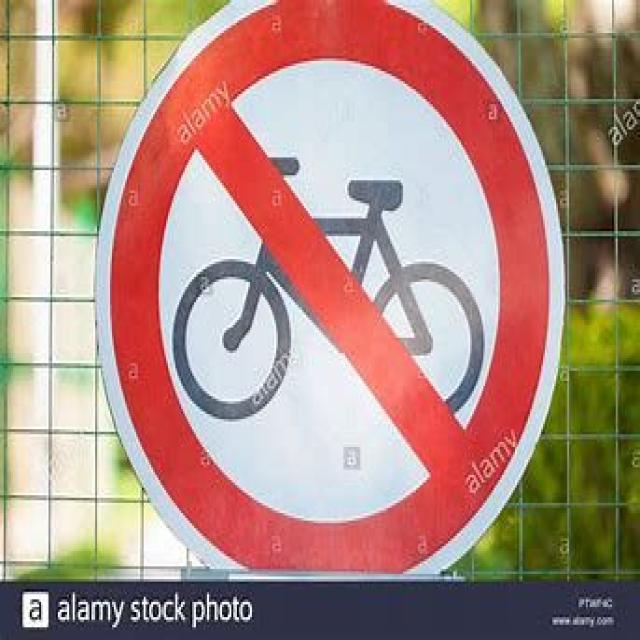CYCLE_PROHIBITED: (92, 0, 560, 579)
